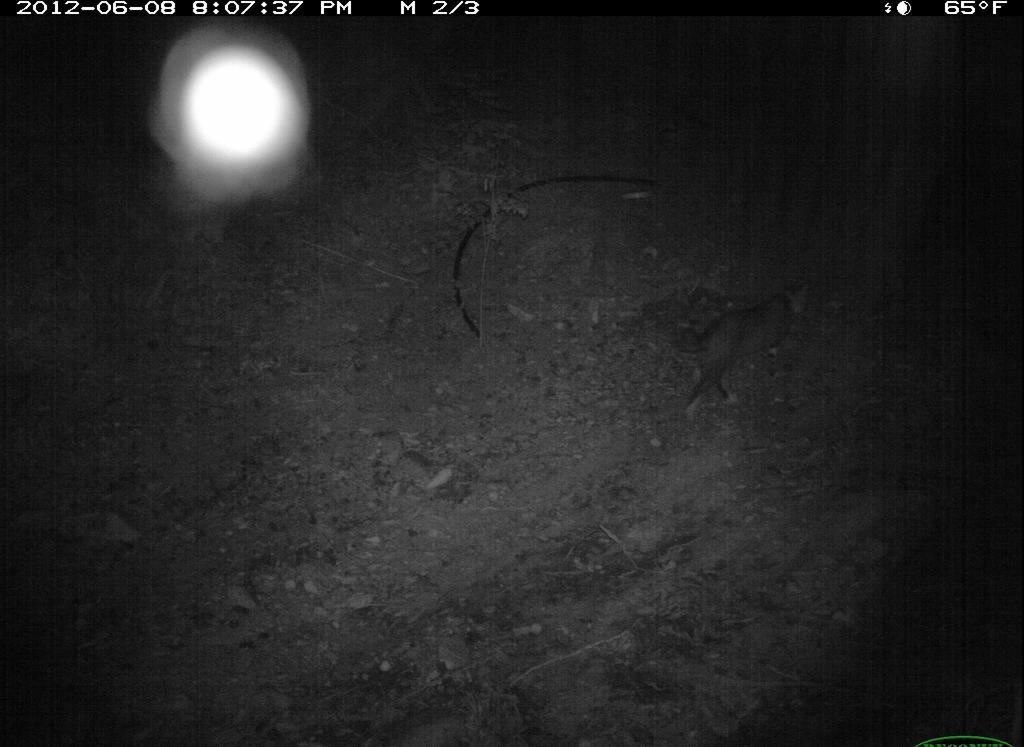cat: (662, 276, 821, 441)
